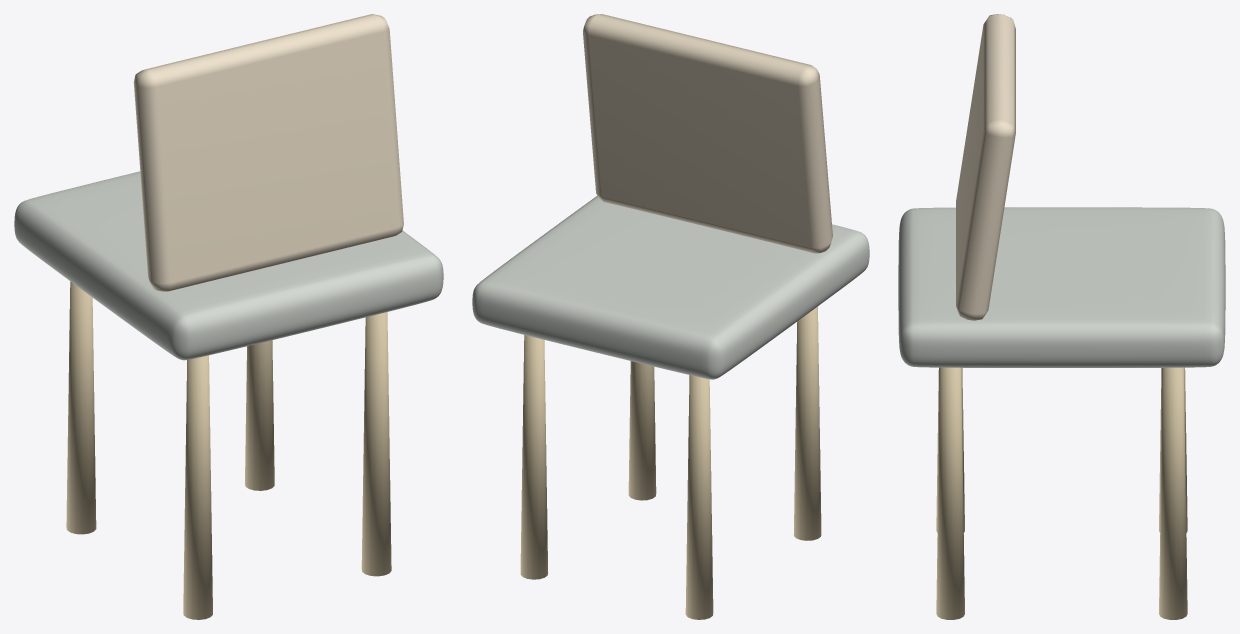
File: chair.glb
3 views of the same model, side by side, from view 1: azimuth 30°, elevation 25°; view 2: azimuth 150°, elevation 25°; view 3: azimuth 270°, elevation 25° (orthographic). The views are drawn at different scales.
Visible parts, largest first — view 1: leg; view 2: leg; view 3: leg.
Part boxes in pixels (x1,y1,x2,y2): leg: [14, 14, 443, 619]; leg: [472, 14, 869, 619]; leg: [898, 14, 1225, 619].
Size of the model in its own units: 0.4596 by 0.8518 by 0.4996.
